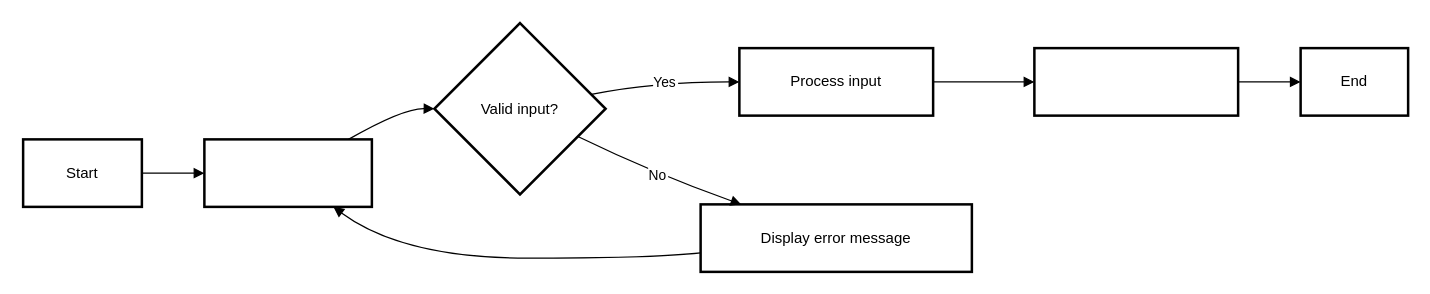
The diagram is 1430 pixels wide and 294 high, and some of its shapes have lost their labels. The box of each missing label's shape, as (x1, y1, x2, y2) in pixels:
Display results: (1032, 46, 1239, 116)
User input: (202, 138, 372, 208)
